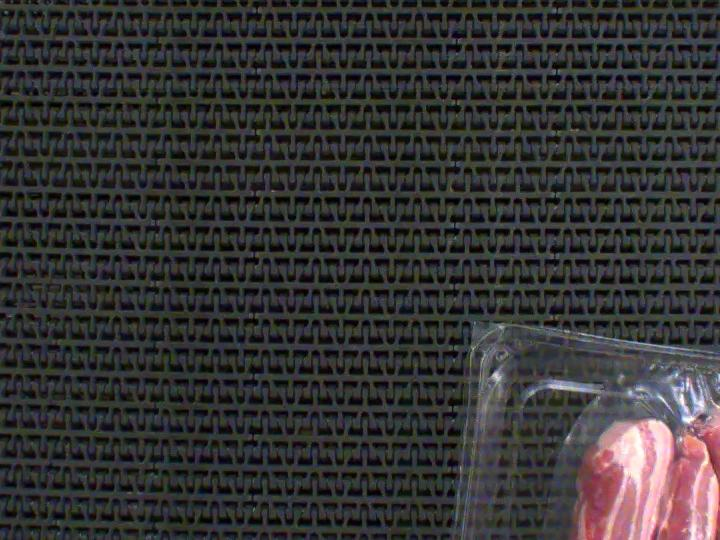unsealed: (540, 345, 720, 540)
